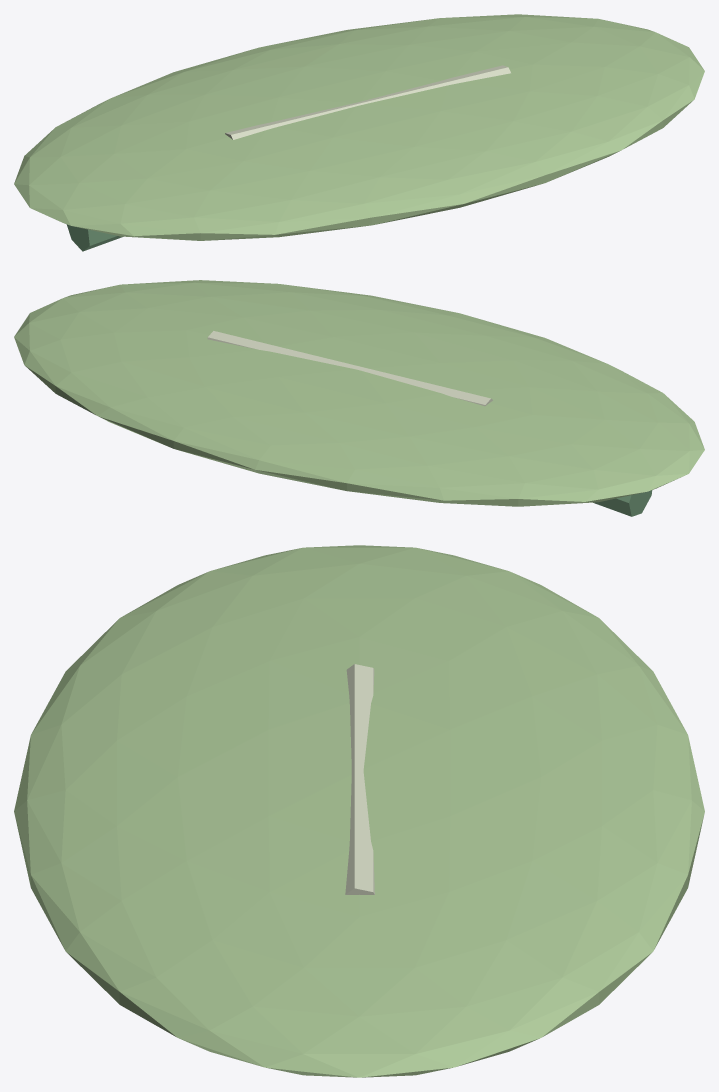
The model's file is broad_leaf.glb.
3 renders of one model, top to bottom at view 1: azimuth 30°, elevation 25°; view 2: azimuth 150°, elevation 25°; view 3: azimuth 270°, elevation 25°, orthographic. The views are drawn at different scales.
Parts seen in each view (by area): view 1: Blade, Vein, Stem; view 2: Blade, Vein, Stem; view 3: Blade, Vein.
Boxes of the visible parts, bbox=[...] form: Blade: bbox=[14, 14, 704, 240]; Vein: bbox=[225, 65, 510, 139]; Stem: bbox=[66, 224, 123, 251]; Blade: bbox=[14, 280, 704, 506]; Vein: bbox=[207, 331, 492, 406]; Stem: bbox=[593, 490, 652, 516]; Blade: bbox=[14, 545, 704, 1077]; Vein: bbox=[345, 664, 374, 894].
Size of the model in its own units: 1.52 by 0.1748 by 0.833.
